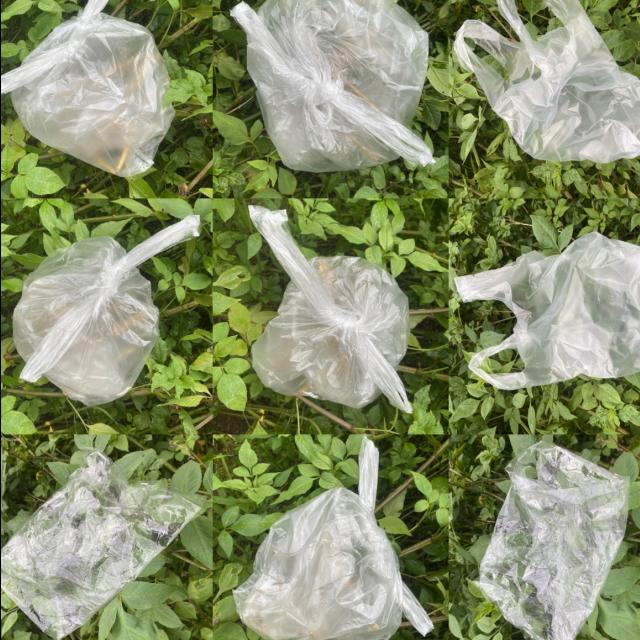plastik: (233, 437, 432, 640), (0, 451, 205, 640), (12, 215, 198, 406), (230, 0, 431, 173), (248, 206, 411, 412), (0, 0, 173, 177), (454, 0, 640, 163), (455, 232, 640, 390), (479, 444, 628, 640)
